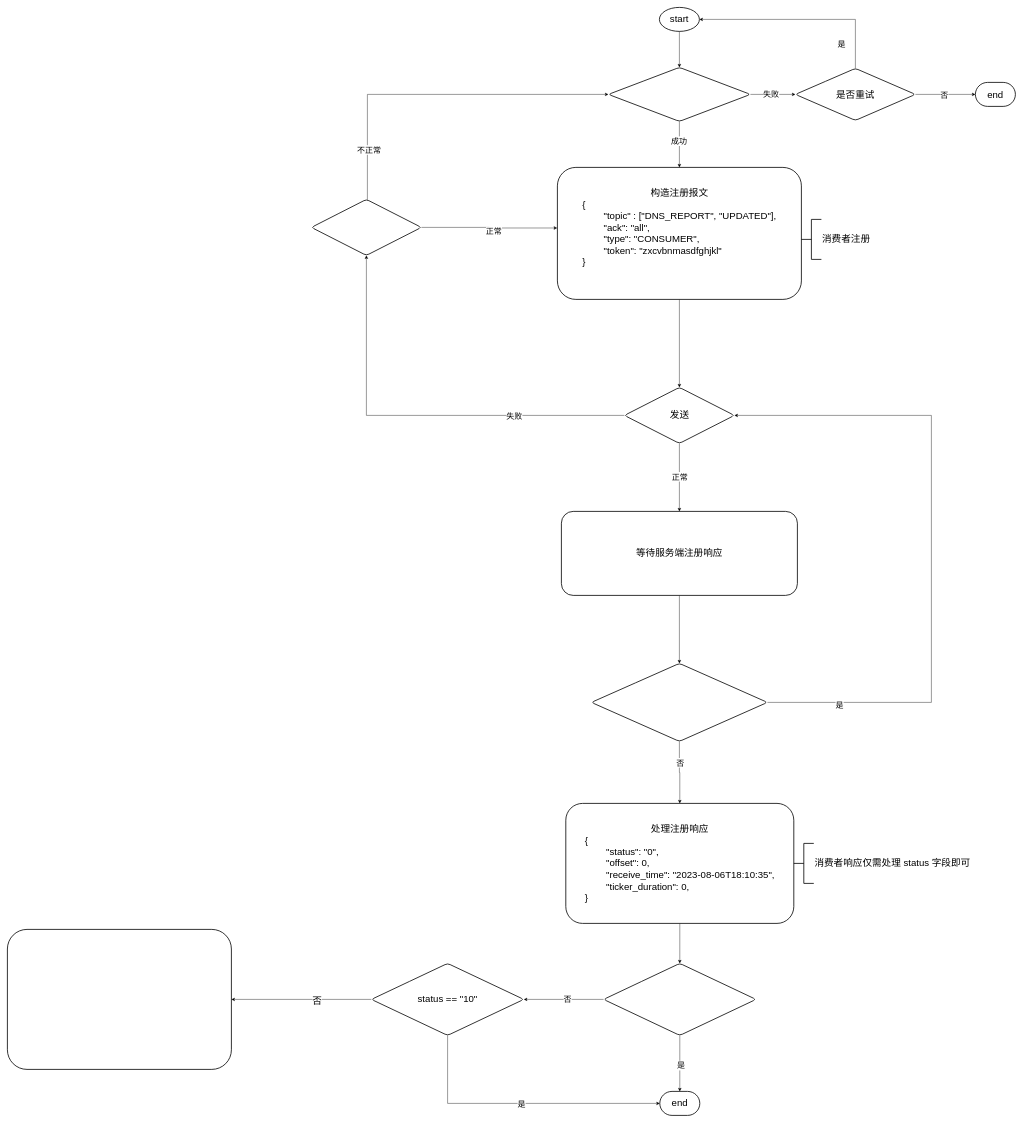
Image size: 1022x1122. Some labels were removed from this diagram. Each missing label, with the centre of its shape:
status == "0": (x=679, y=999)
发起TCP连接: (x=679, y=94)
等待超时: (x=679, y=702)
连接是否正常: (x=366, y=227)
（异步） 等待服务器进一步命令 [ 要求重新注册/ ]: (x=119, y=999)
